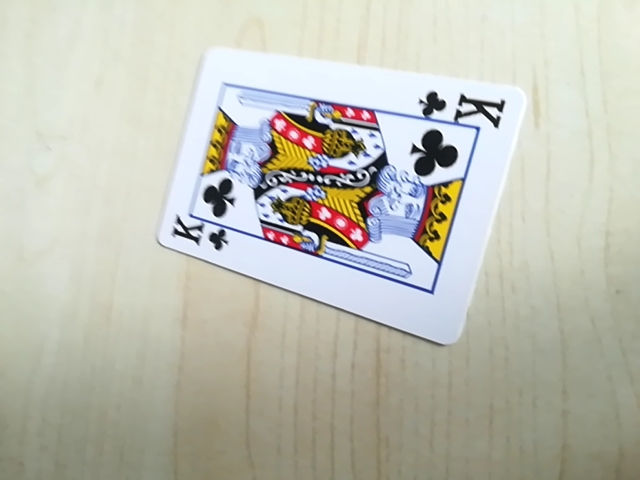mh k: (418, 87, 509, 127), (168, 221, 232, 254)
